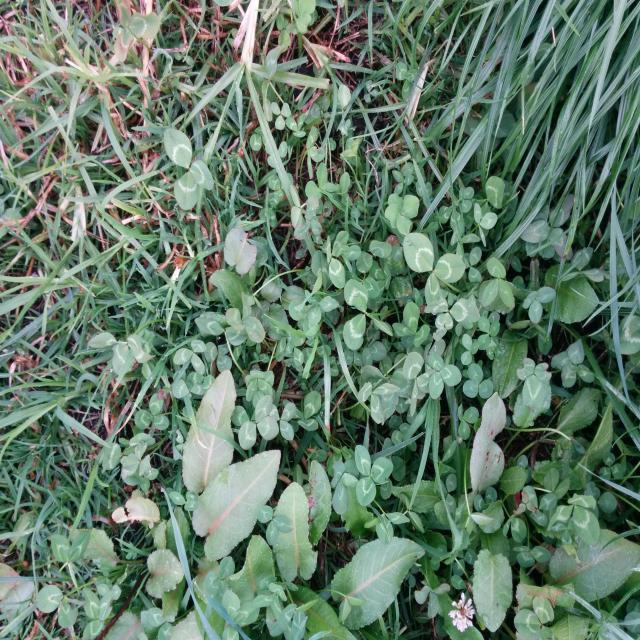Four Leaf Clover: (385, 193, 419, 235)
